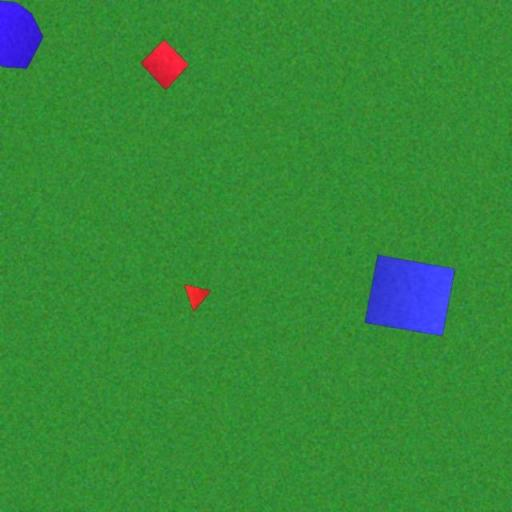BLUE_SQUARE: (364, 254, 456, 337)
RED_SQUARE: (140, 38, 190, 92)
